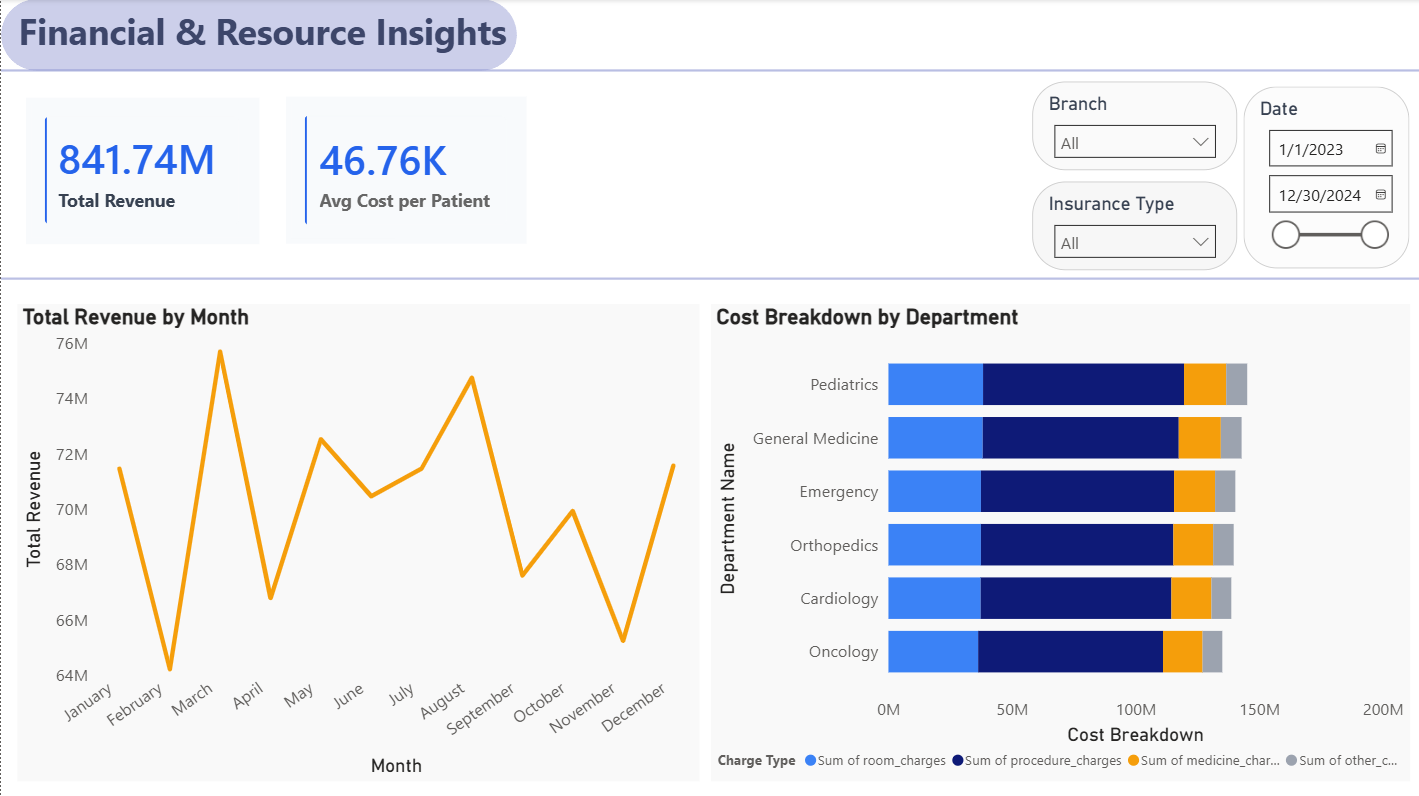

The dashboard page shown, as its layout file describes it:
{"tool":"powerbi","page":{"name":"Page 3","canvas":[1280,720],"ordinal":2},"visuals":[{"type":"cardVisual","fields":{"Data":["hospital_db fact_billing.Total Revenue"]},"box":[35,146.2,210,132.5],"z":0},{"type":"cardVisual","fields":{"Data":["hospital_db fact_billing.Avg Cost per Patient"]},"box":[431.2,166.2,300,92.5],"z":1},{"type":"lineChart","fields":{"Y":["hospital_db fact_billing.Total Revenue"],"Category":["hospital_db fact_admission.admission_time.Variation.Date Hierarchy.Month"]},"box":[35,300,575,293.8],"z":2},{"type":"barChart","fields":{"Category":["hospital_db dim_department.department_name"],"Y":["Sum(hospital_db fact_billing.room_charges)","Sum(hospital_db fact_billing.procedure_charges)","Sum(hospital_db fact_billing.medicine_charges)","Sum(hospital_db fact_billing.other_charges)"]},"box":[677.5,212.5,585,381.2],"z":3}]}

Visuals, with their boxes in screenshot pixels (x1, y1, x2, y2), scaled from the page's 1280x720 canvas onto the 1419x796 screenshot:
cardVisual - hospital_db fact_billing.Total Revenue: <bbox>39, 162, 272, 308</bbox>
cardVisual - hospital_db fact_billing.Avg Cost per Patient: <bbox>478, 184, 811, 286</bbox>
lineChart - hospital_db fact_billing.Total Revenue x hospital_db fact_admission.admission_time.Variation.Date Hierarchy.Month: <bbox>39, 332, 676, 656</bbox>
barChart - hospital_db dim_department.department_name x Sum(hospital_db fact_billing.room_charges): <bbox>751, 235, 1400, 656</bbox>
